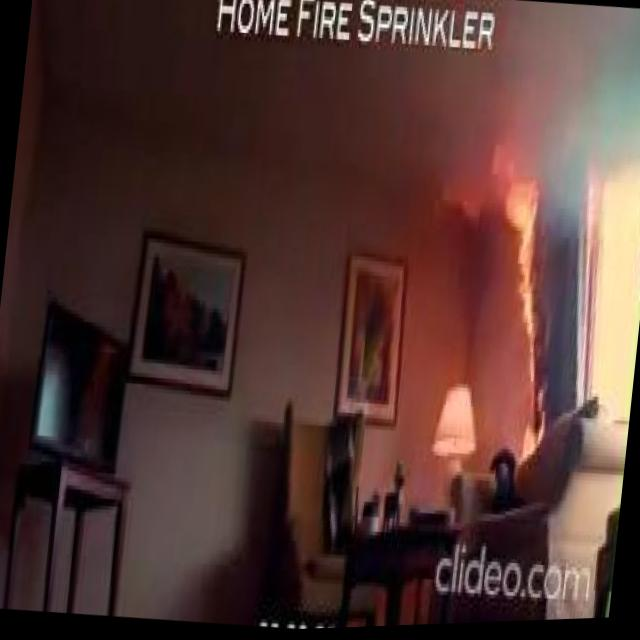fire: (434, 164, 554, 301), (500, 255, 560, 456), (582, 177, 619, 250)
